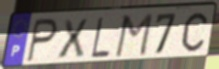7: (153, 12, 180, 56)
C: (180, 11, 209, 54)
L: (90, 16, 111, 59)
M: (113, 12, 155, 59)
P: (25, 17, 59, 64)
X: (56, 17, 90, 61)
